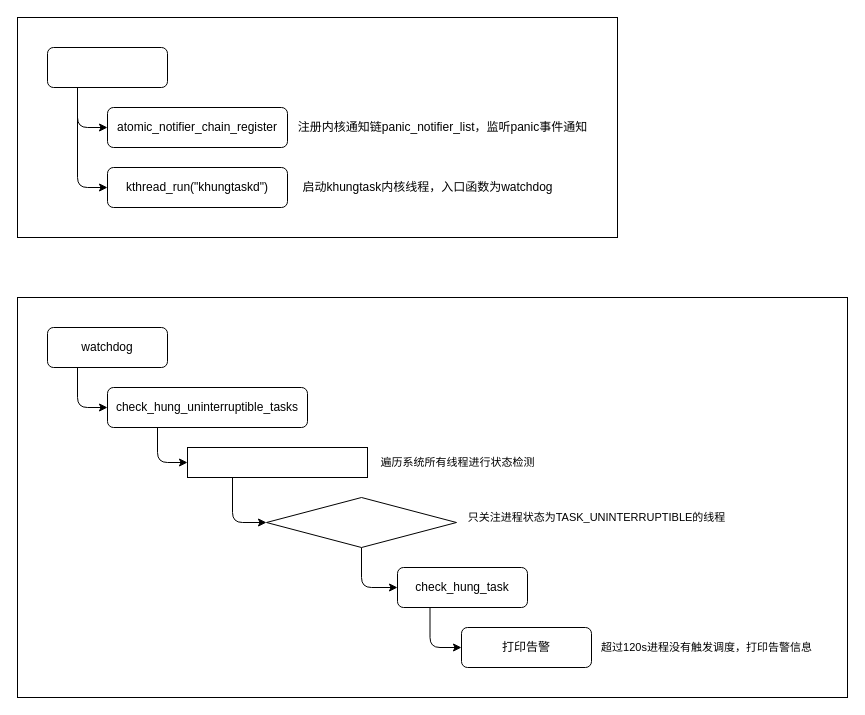
Some shapes in this 865 by 715 pixel diagram are drawn without their labels. Here are the shapes that lost their labels. From the top down, the box of each, then its label:
(46, 46, 168, 88): hung_task_init
(186, 446, 368, 478): for_each_process_thread(g, t) {
(266, 496, 456, 548): t->state == TASK_UNINTERRUPTIBLE
